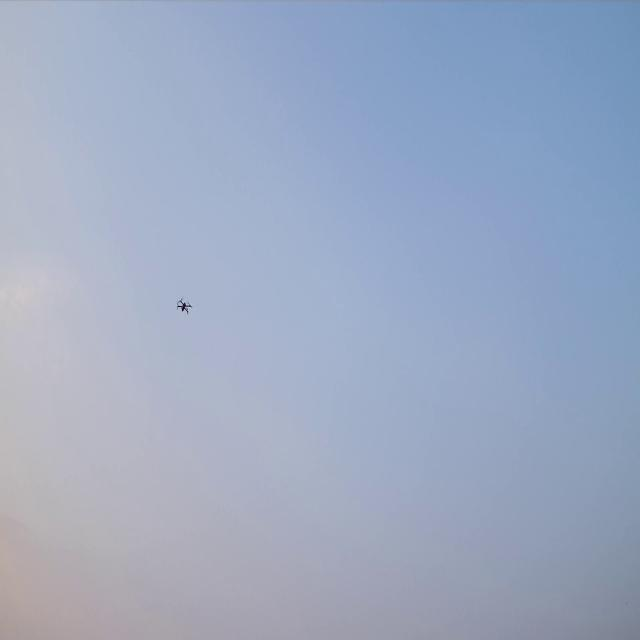UAV: (176, 296, 192, 318)
